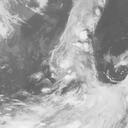cyclone: (50, 41, 95, 91)
